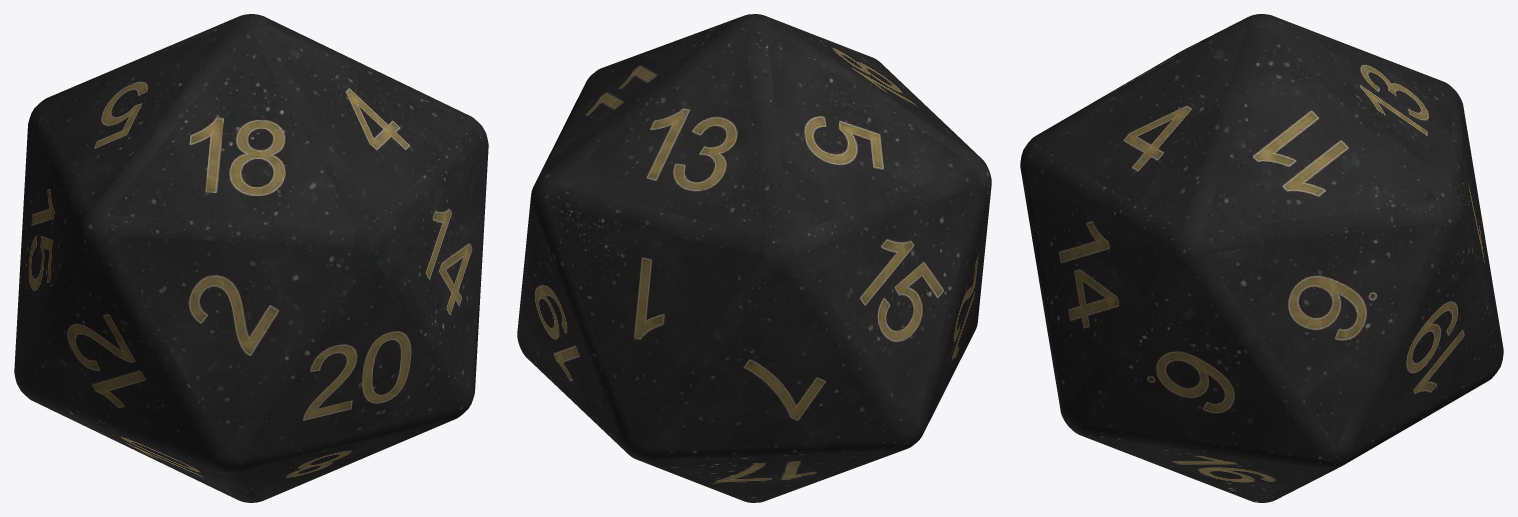
The model's file is d20-obsidian-compressed.glb.
3 renders of one model, left to right at view 1: azimuth 30°, elevation 25°; view 2: azimuth 150°, elevation 25°; view 3: azimuth 270°, elevation 25°, orthographic.
Parts seen in each view (by area): view 1: d20_obsidian; view 2: d20_obsidian; view 3: d20_obsidian.
Part boxes in pixels (<box>): d20_obsidian: <box>14,14,488,502</box>; d20_obsidian: <box>517,14,991,502</box>; d20_obsidian: <box>1020,14,1503,502</box>.
Bounding box in the file's own units: 1.85 × 2.13 × 1.93.
Materials: 1 (1 with a texture image).
